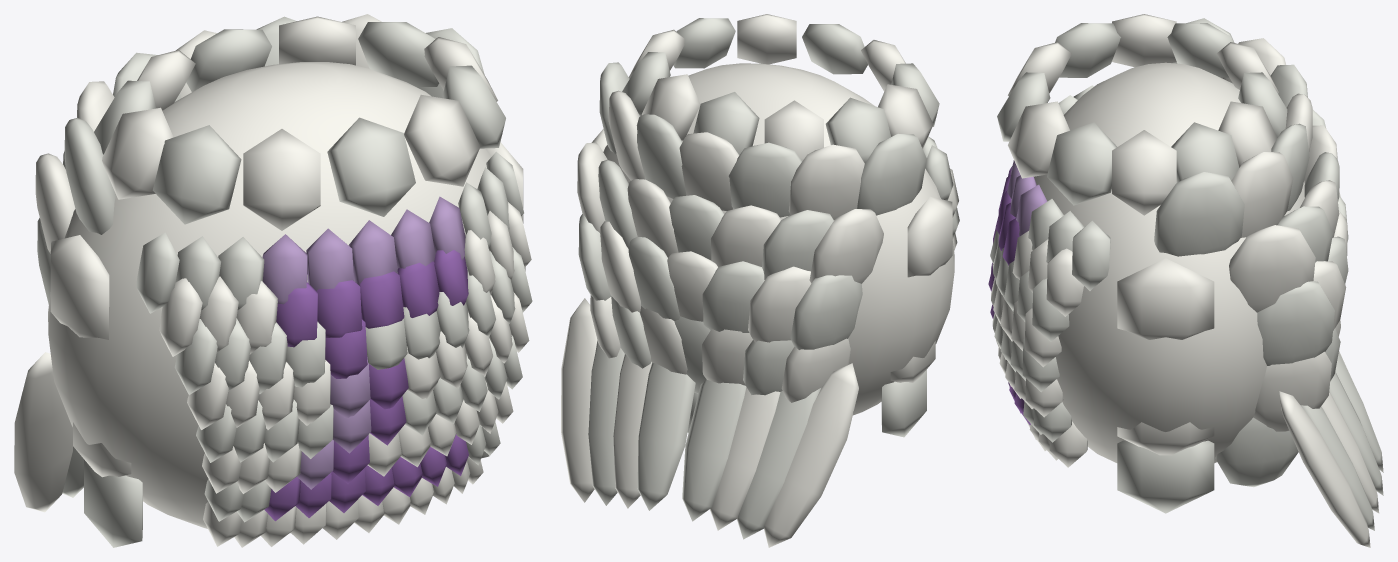
File: knowitowl_body.glb
3 views of the same model, side by side, from view 1: azimuth 30°, elevation 25°; view 2: azimuth 150°, elevation 25°; view 3: azimuth 270°, elevation 25° (orthographic). The views are drawn at different scales.
Visible parts, largest first — view 1: KnowItOwlBody; view 2: KnowItOwlBody; view 3: KnowItOwlBody.
Part boxes in pixels (x1,y1,x2,y2): KnowItOwlBody: (14, 14, 532, 547); KnowItOwlBody: (561, 14, 959, 547); KnowItOwlBody: (988, 14, 1383, 547).
Size of the model in its own units: 2 by 2.18 by 1.84.
